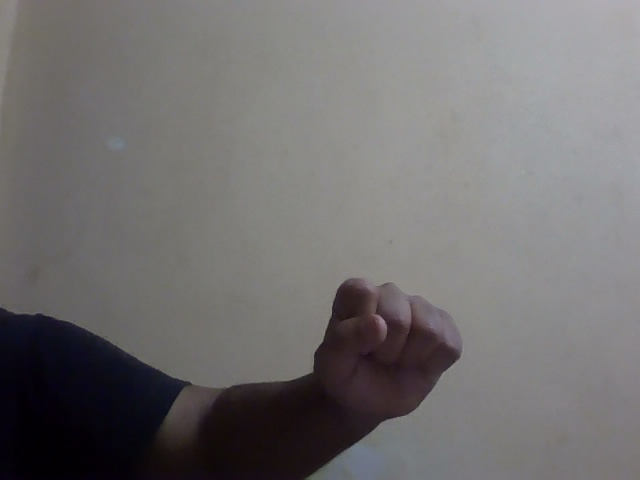Yes: (279, 256, 487, 439)
